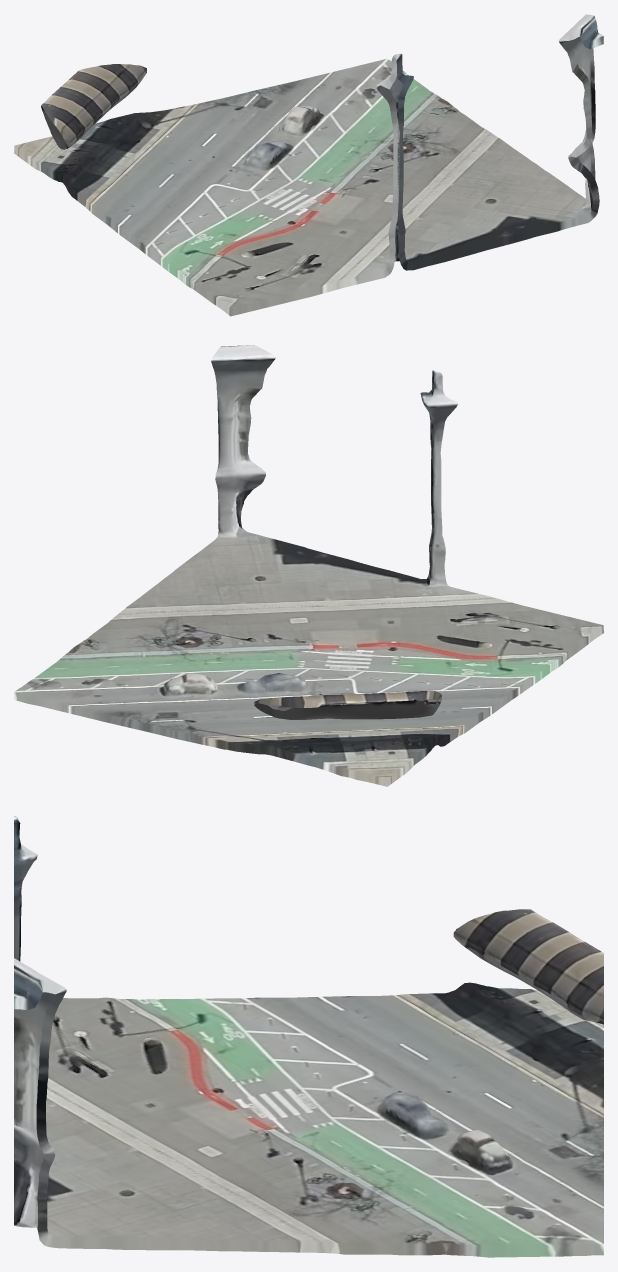
File: z20-167789-405220-h0-yup-uvflip-v3-world.glb
The picture shows the model from 3 angles, top to bottom: view 1: azimuth 30°, elevation 25°; view 2: azimuth 150°, elevation 25°; view 3: azimuth 270°, elevation 25°; orthographic projection. The views are drawn at different scales.
Size of the model in its own units: 30.2 by 17.2 by 30.32.
Materials: 1 (1 with a texture image).
